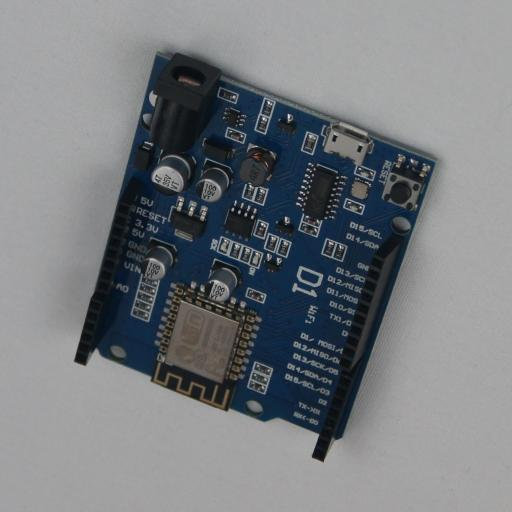Arduino Uno WiFi Shield: (74, 51, 437, 462)
